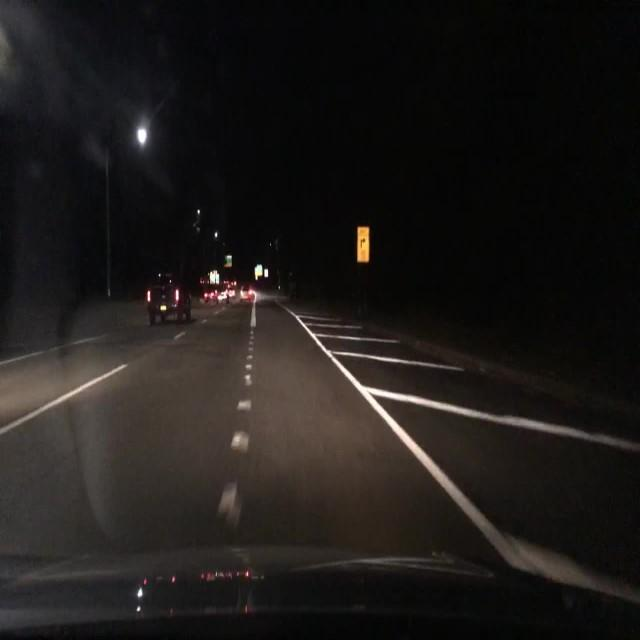normal: (132, 262, 210, 335)
